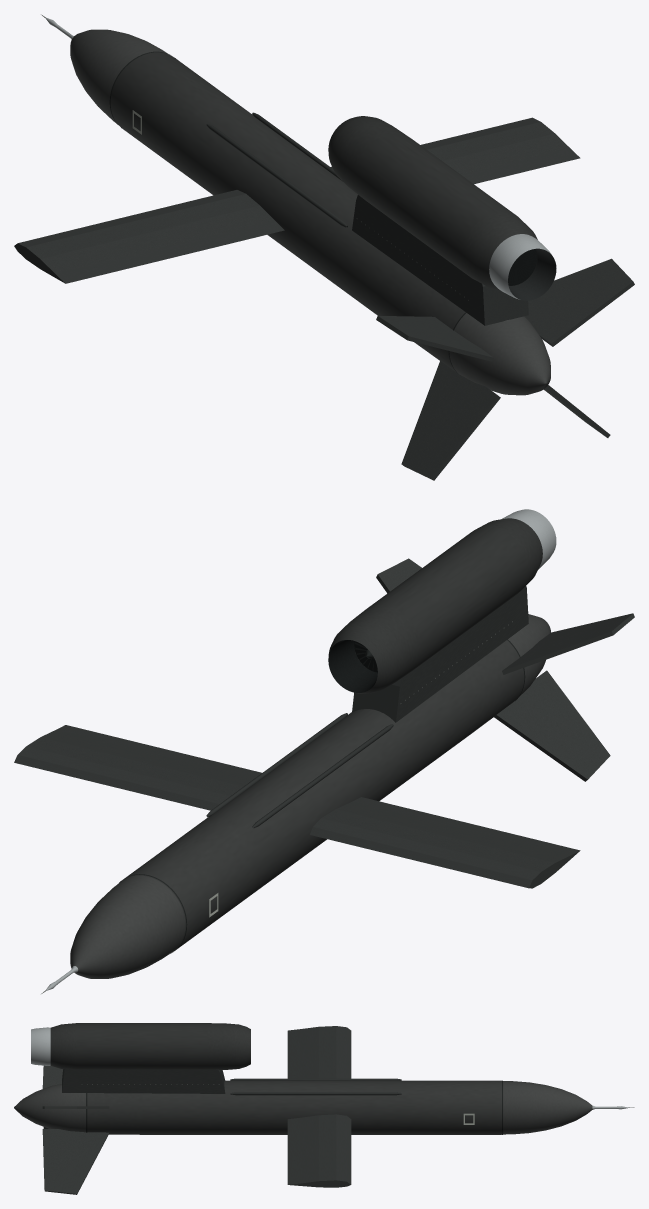
File: flamingo.obj
3 views of the same model, one above another, from view 1: azimuth 30°, elevation 25°; view 2: azimuth 150°, elevation 25°; view 3: azimuth 270°, elevation 25° (orthographic). The views are drawn at different scales.
Visible parts, largest first — view 1: fuselage, main_wing, nacelle, tail_fin, engine_fairing, tail_cone, radome, tail_fin_edge, nozzle, dorsal_rail, exhaust_recess, recess_back; view 2: fuselage, main_wing, nacelle, radome, tail_fin, engine_fairing, dorsal_rail, inlet, tail_cone, tail_fin_edge, nozzle; view 3: fuselage, nacelle, main_wing, engine_fairing, radome, tail_fin, tail_cone, dorsal_rail, nozzle, tail_fin_edge.
Boxes of the visible parts, <box> form: fuselage: <box>110,52,465,371</box>; main_wing: <box>14,117,580,283</box>; nacelle: <box>328,116,537,290</box>; tail_fin: <box>378,258,632,478</box>; engine_fairing: <box>352,195,528,325</box>; tail_cone: <box>449,313,550,395</box>; radome: <box>70,29,168,123</box>; tail_fin_edge: <box>376,281,634,480</box>; nozzle: <box>489,234,551,299</box>; dorsal_rail: <box>206,112,347,227</box>; exhaust_recess: <box>508,248,556,300</box>; recess_back: <box>508,249,537,285</box>; fuselage: <box>119,640,524,952</box>; main_wing: <box>14,725,580,888</box>; nacelle: <box>328,518,542,693</box>; radome: <box>70,875,185,978</box>; tail_fin: <box>378,558,632,779</box>; engine_fairing: <box>352,586,528,722</box>; dorsal_rail: <box>206,713,393,828</box>; inlet: <box>328,640,377,692</box>; tail_cone: <box>508,614,550,696</box>; tail_fin_edge: <box>376,574,634,781</box>; nozzle: <box>501,509,556,569</box>; fuselage: <box>87,1080,503,1134</box>; nacelle: <box>50,1023,250,1069</box>; main_wing: <box>287,1026,351,1187</box>; engine_fairing: <box>62,1068,225,1093</box>; radome: <box>503,1081,592,1134</box>; tail_fin: <box>42,1065,108,1193</box>; tail_cone: <box>14,1084,85,1132</box>; dorsal_rail: <box>230,1078,401,1095</box>; nozzle: <box>31,1027,50,1065</box>; tail_fin_edge: <box>42,1106,109,1194</box>.
Bounding box in the file's own units: 5.86 × 2.52 × 9.96.
Materials: 1 (1 with a texture image).
